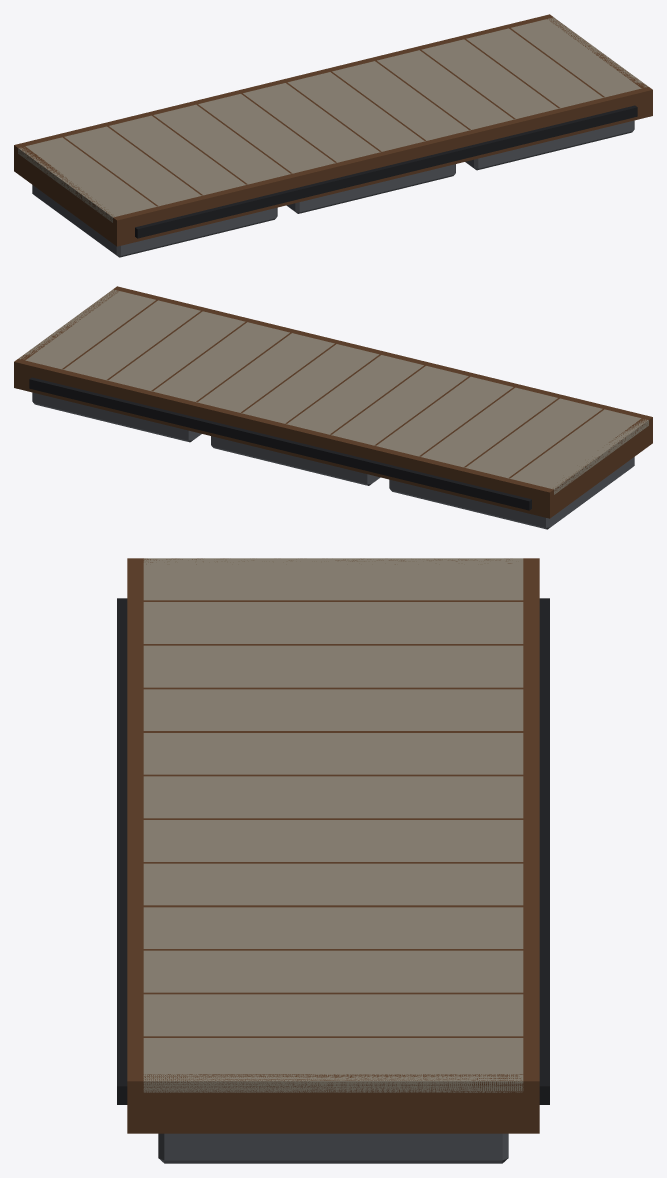
The model's file is prop_dock_float.glb.
3 renders of one model, top to bottom at view 1: azimuth 30°, elevation 25°; view 2: azimuth 150°, elevation 25°; view 3: azimuth 270°, elevation 25°, orthographic. The views are drawn at different scales.
Visible parts, largest first — view 1: prop_dock_float__mesh; view 2: prop_dock_float__mesh; view 3: prop_dock_float__mesh.
Part boxes in pixels (<box>): prop_dock_float__mesh: <box>14,14,652,257</box>; prop_dock_float__mesh: <box>14,286,652,529</box>; prop_dock_float__mesh: <box>117,558,549,1163</box>.
Size of the model in its own units: 6 by 0.504 by 2.1.
1 material, 1 textured.
